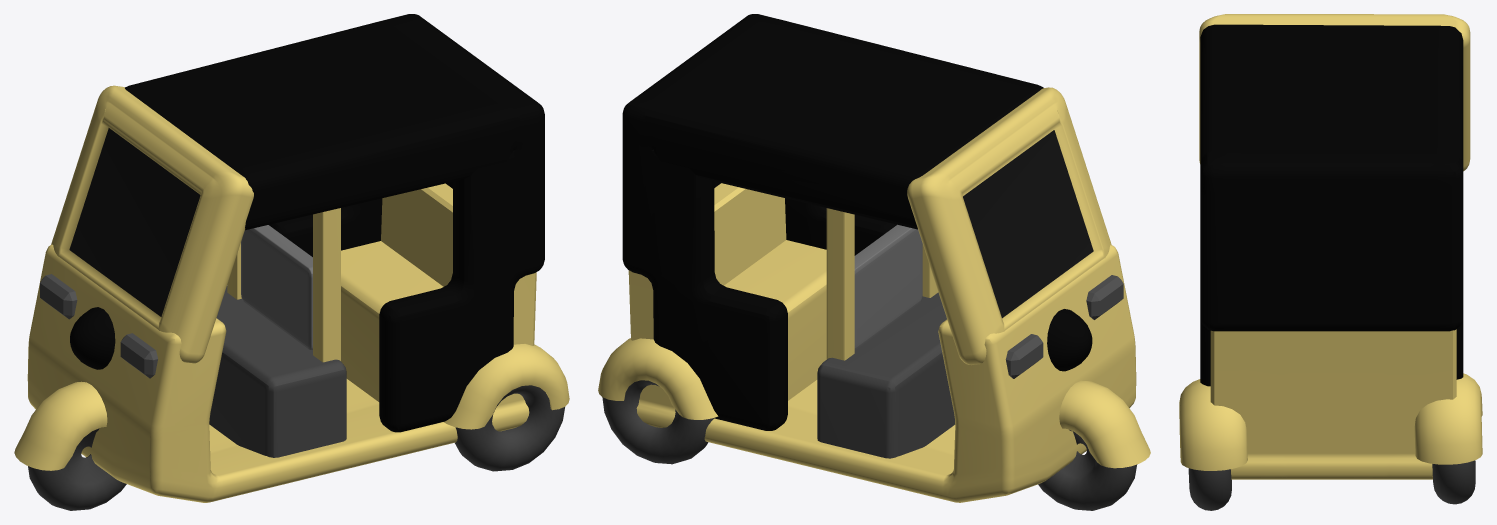
File: autu lowpoly clean.fbx
The picture shows the model from 3 angles, left to right: view 1: azimuth 30°, elevation 25°; view 2: azimuth 150°, elevation 25°; view 3: azimuth 270°, elevation 25°; orthographic projection.
Parts seen in each view (by area): view 1: pCube3, pCube1, pCube2, pCube8, pCube7, pCube9, polySurface6, polySurface5, polySurface7, pCube10, polySurface4, pCube6 (+1 smaller); view 2: pCube3, pCube1, pCube2, pCube8, pCube7, pCube9, polySurface5, polySurface8, polySurface9, pCube11, polySurface4, pCube6 (+1 smaller); view 3: pCube3, pCube1, polySurface6, polySurface8, pCube2, polySurface9, polySurface7.
Part boxes in pixels (<box>): pCube3: <box>125,14,544,432</box>; pCube1: <box>27,183,536,502</box>; pCube2: <box>51,85,253,363</box>; pCube8: <box>209,285,346,457</box>; pCube7: <box>341,241,443,401</box>; pCube9: <box>241,225,312,349</box>; polySurface6: <box>444,344,569,429</box>; polySurface5: <box>14,381,107,470</box>; polySurface7: <box>455,385,564,471</box>; pCube10: <box>313,208,340,362</box>; polySurface4: <box>28,428,126,510</box>; pCube6: <box>40,274,157,378</box>; pCube3: <box>622,14,1043,430</box>; pCube1: <box>628,183,1136,502</box>; pCube2: <box>907,87,1111,365</box>; pCube8: <box>817,292,954,458</box>; pCube7: <box>724,240,826,400</box>; pCube9: <box>854,224,922,349</box>; polySurface5: <box>1059,380,1150,468</box>; polySurface8: <box>598,338,718,419</box>; polySurface9: <box>602,380,713,464</box>; pCube11: <box>826,208,854,360</box>; polySurface4: <box>1038,430,1137,510</box>; pCube6: <box>1005,275,1123,378</box>; pCube3: <box>1200,24,1463,386</box>; pCube1: <box>1210,329,1456,479</box>; polySurface6: <box>1179,379,1247,470</box>; polySurface8: <box>1414,373,1482,464</box>; pCube2: <box>1199,14,1470,171</box>; polySurface9: <box>1432,460,1475,504</box>; polySurface7: <box>1188,468,1231,510</box>.
Size of the model in its own units: 190 by 135 by 104.
